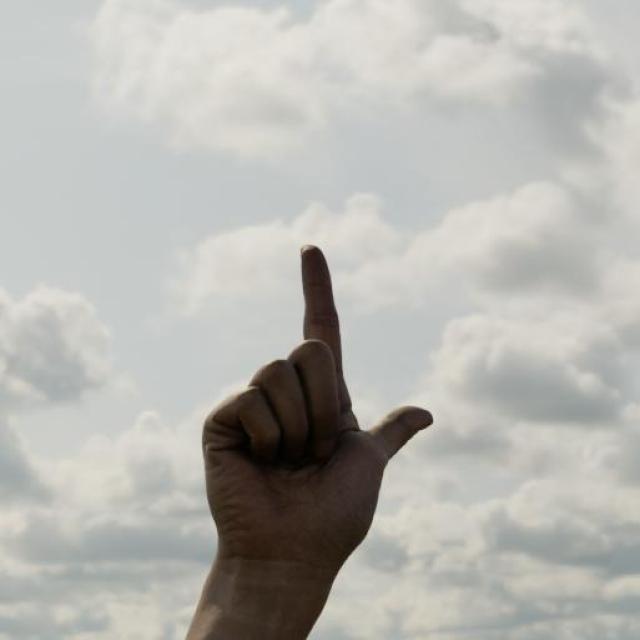L: (198, 235, 440, 570)
